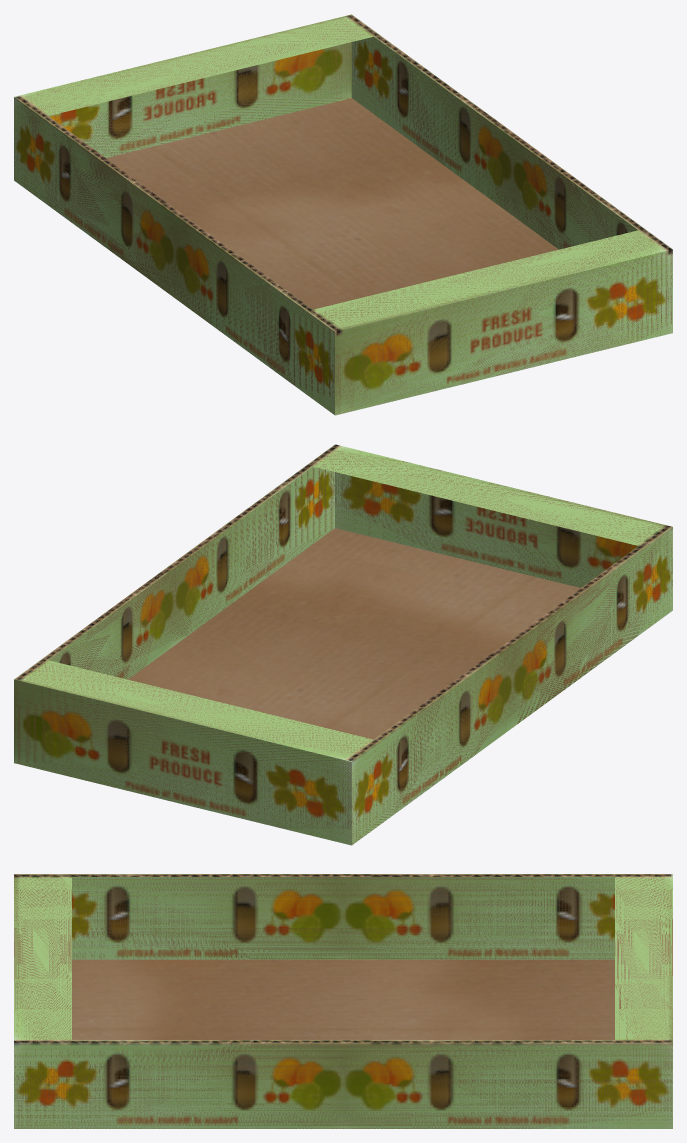
File: carton_box.FBX
3 views of the same model, one above another, from view 1: azimuth 30°, elevation 25°; view 2: azimuth 150°, elevation 25°; view 3: azimuth 270°, elevation 25° (orthographic). The views are drawn at different scales.
Parts seen in each view (by area): view 1: carton_box_01; view 2: carton_box_01; view 3: carton_box_01.
Boxes of the visible parts, x1,y1,x2,y2 form: carton_box_01: (14, 14, 672, 415); carton_box_01: (14, 444, 672, 845); carton_box_01: (14, 874, 672, 1128).
Size of the model in its own units: 0.41 by 0.097 by 0.675.
